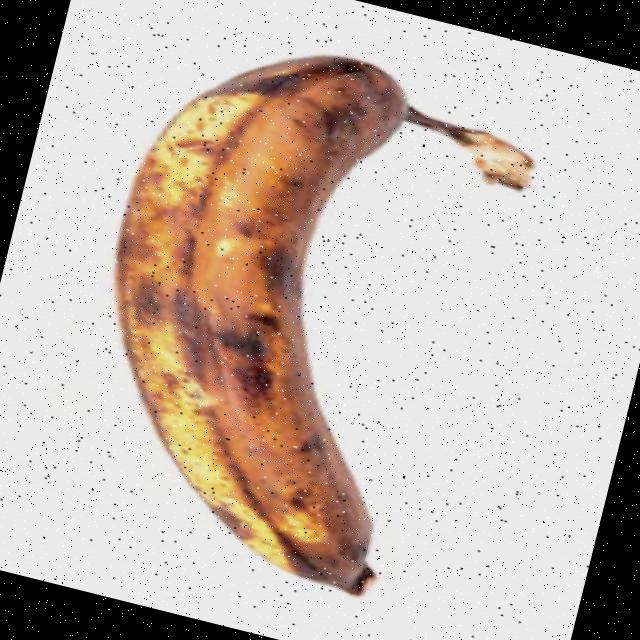overripe: (40, 8, 559, 614)
